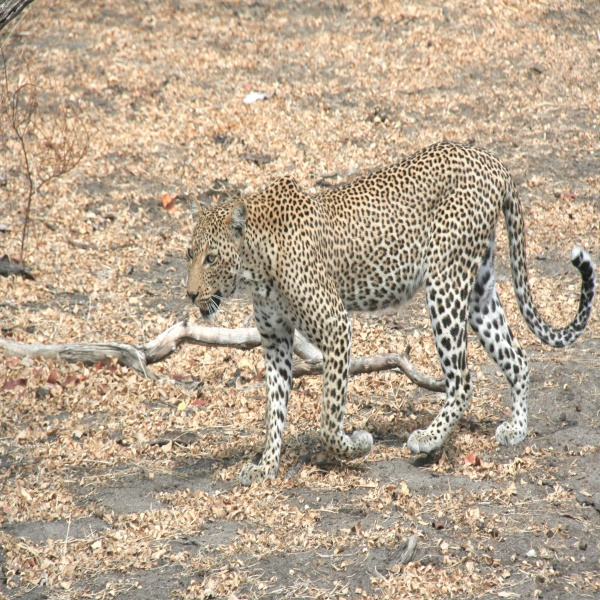Leopard: (184, 137, 590, 480)
